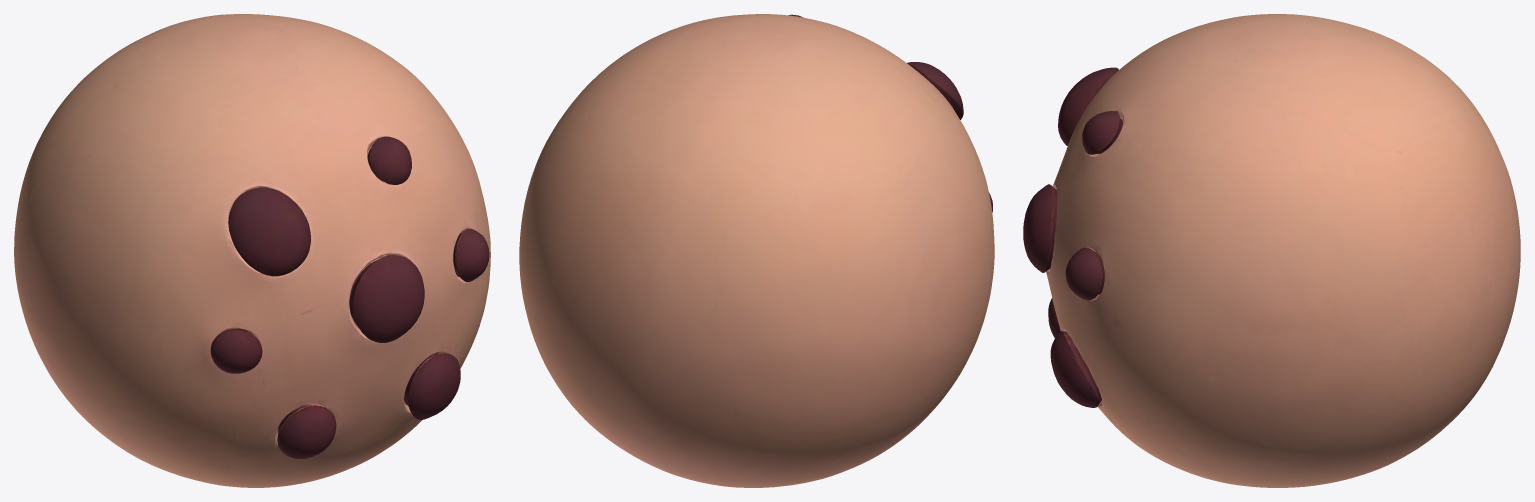
File: cookie.glb
3 renders of one model, left to right at view 1: azimuth 30°, elevation 25°; view 2: azimuth 150°, elevation 25°; view 3: azimuth 270°, elevation 25°, orthographic.
Visible parts, largest first — view 1: Mesh; view 2: Mesh; view 3: Mesh.
Part boxes in pixels (bbox=[...]): Mesh: bbox=[14, 14, 490, 487]; Mesh: bbox=[519, 14, 994, 487]; Mesh: bbox=[1023, 14, 1520, 487].
Bounding box in the file's own units: 0.9446 × 0.9465 × 1.
1 material, 1 textured.
